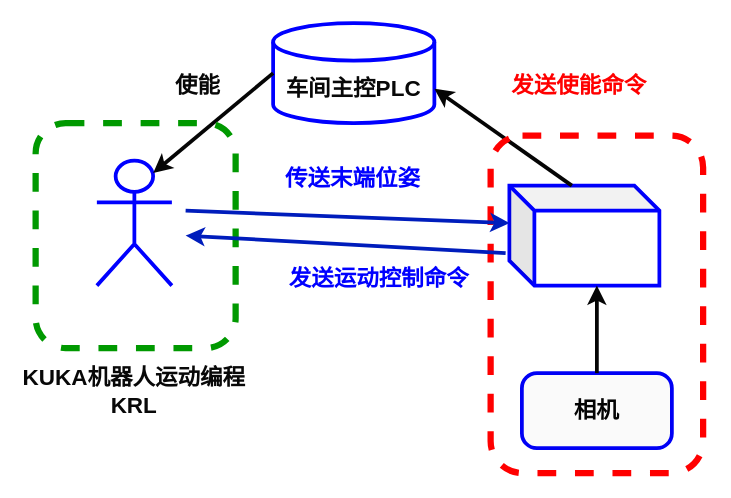
Image size: 731x498. Some labels were removed from this diagram. Each missing label, with the centre of its shape:
"上位机" goes at [584,235].
"机器人" goes at [133,222].
